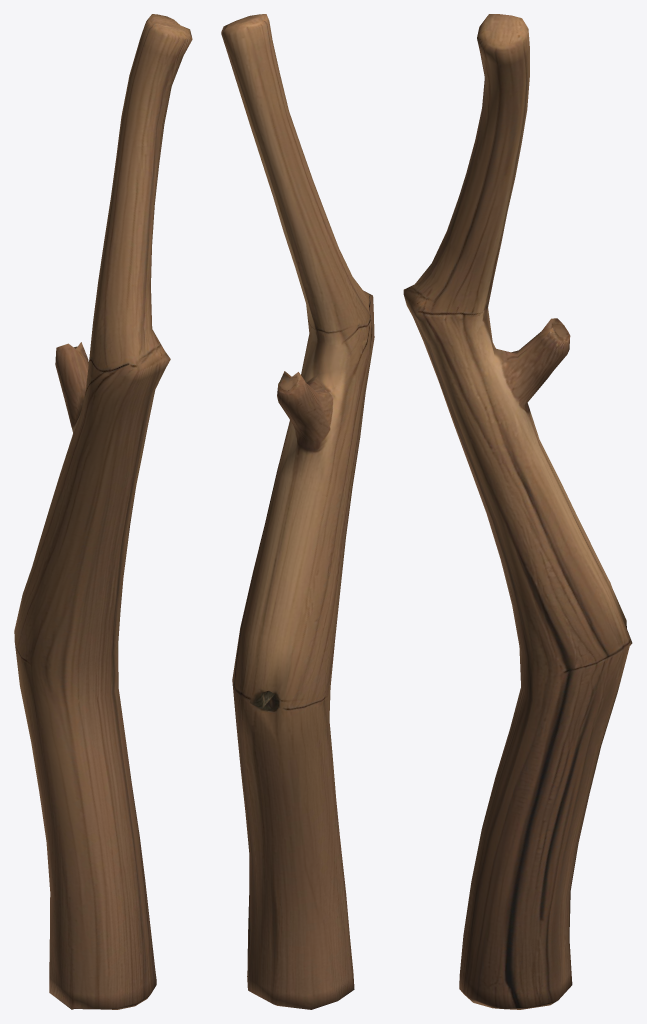
3 views of the same model, side by side, from view 1: azimuth 30°, elevation 25°; view 2: azimuth 150°, elevation 25°; view 3: azimuth 270°, elevation 25° (orthographic). The views are drawn at different scales.
Visible parts, largest first — view 1: tripo_node_3f551fef; view 2: tripo_node_3f551fef; view 3: tripo_node_3f551fef.
Boxes of the visible parts, box(x1,y1,x2,y2) form: tripo_node_3f551fef: box(14, 14, 192, 1009); tripo_node_3f551fef: box(221, 14, 374, 1009); tripo_node_3f551fef: box(403, 14, 632, 1009).
Bounding box in the file's own units: 0.1453 × 0.9966 × 0.2068.
Materials: 1 (1 with a texture image).
